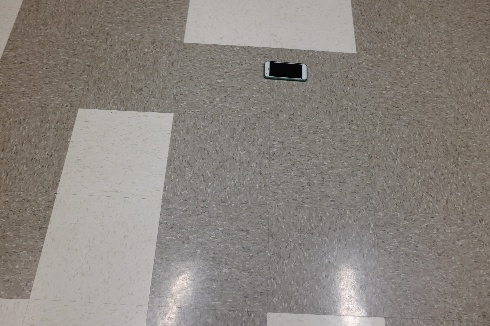phone: (262, 53, 311, 85)
